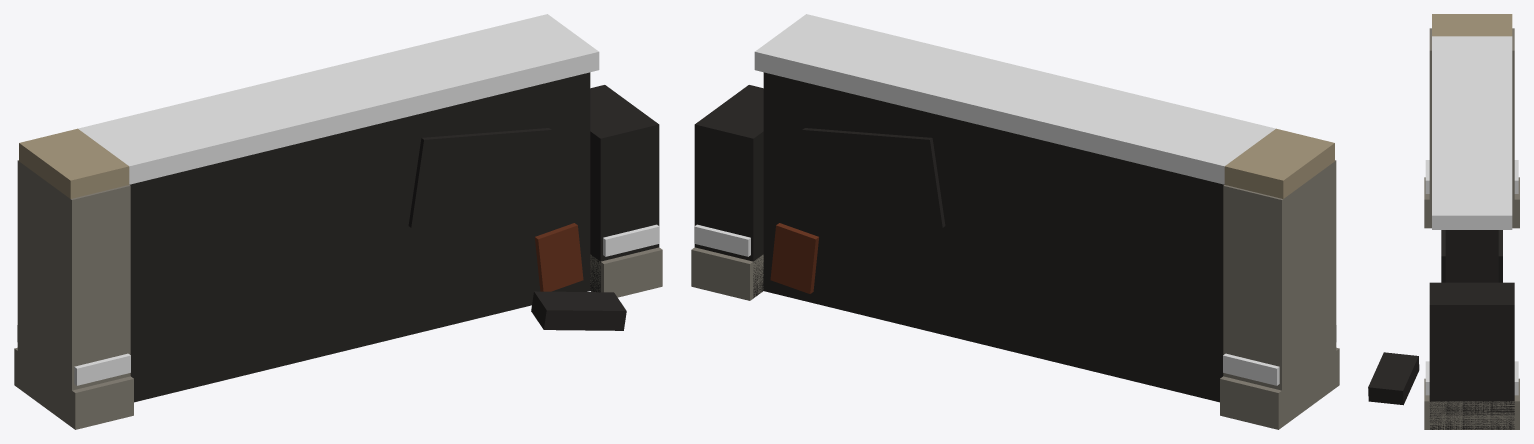
Rendered from RF_Structure_Door_Damaged.glb.
3 renders of one model, left to right at view 1: azimuth 30°, elevation 25°; view 2: azimuth 150°, elevation 25°; view 3: azimuth 270°, elevation 25°, orthographic. The views are drawn at different scales.
Visible parts, largest first — view 1: Leaf, RF_Structure_Door_Damaged, TeamTrim, TeamTrim.001; view 2: Leaf, RF_Structure_Door_Damaged, TeamTrim, TeamTrim.001; view 3: RF_Structure_Door_Damaged, TeamTrim, Leaf, TeamTrim.001.
Boxes of the visible parts, left/top/right/bottom form: Leaf: left=129, top=72, right=590, bottom=402; RF_Structure_Door_Damaged: left=14, top=85, right=662, bottom=429; TeamTrim: left=78, top=14, right=599, bottom=184; TeamTrim.001: left=17, top=224, right=659, bottom=385; Leaf: left=763, top=72, right=1224, bottom=402; RF_Structure_Door_Damaged: left=691, top=85, right=1339, bottom=429; TeamTrim: left=754, top=14, right=1275, bottom=184; TeamTrim.001: left=694, top=224, right=1336, bottom=385; RF_Structure_Door_Damaged: left=1368, top=14, right=1519, bottom=429; TeamTrim: left=1432, top=36, right=1512, bottom=229; Leaf: left=1441, top=230, right=1502, bottom=282; TeamTrim.001: left=1425, top=160, right=1518, bottom=395.
Bounding box in the file's own units: 5 × 2 × 1.43.
